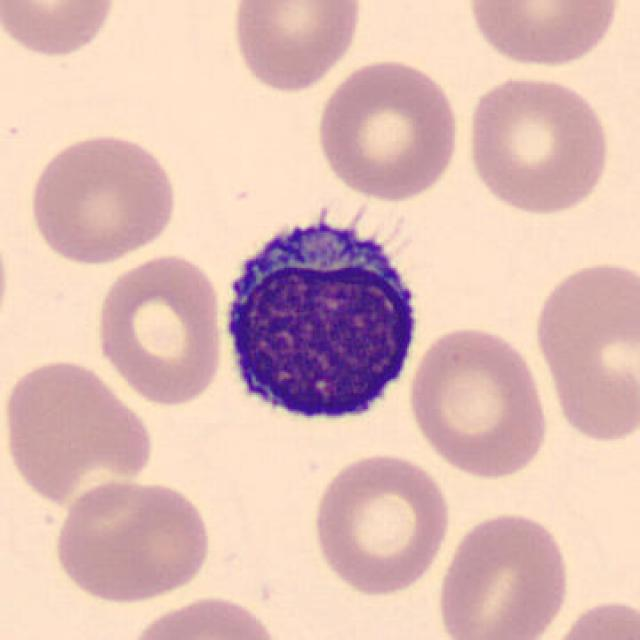Lymphocyte: (212, 194, 430, 437)
RBC: (0, 354, 158, 510), (405, 323, 551, 481), (313, 54, 464, 204), (461, 70, 614, 218), (90, 250, 228, 411), (23, 129, 181, 268), (307, 448, 453, 598), (50, 474, 215, 606), (528, 254, 638, 449), (434, 506, 574, 640), (226, 0, 366, 95), (462, 0, 624, 71), (119, 592, 288, 640), (0, 0, 119, 60), (542, 596, 638, 640), (0, 215, 12, 345)
